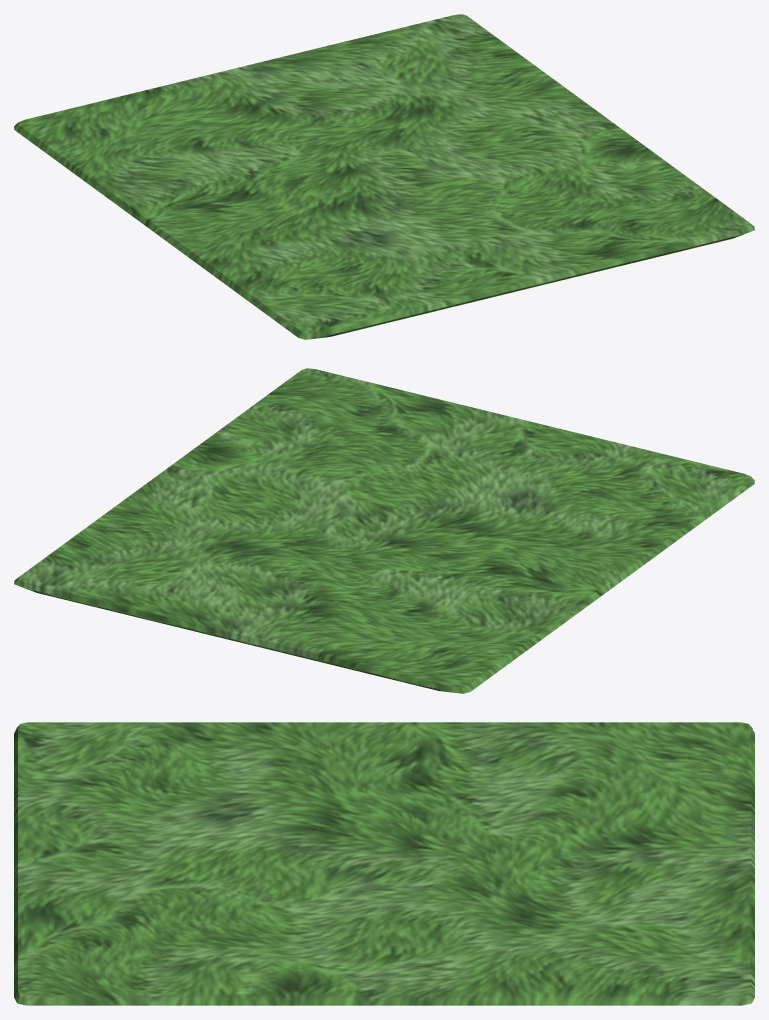
Rendered from Throw_Rug_05.FBX.
The picture shows the model from 3 angles, top to bottom: view 1: azimuth 30°, elevation 25°; view 2: azimuth 150°, elevation 25°; view 3: azimuth 270°, elevation 25°; orthographic projection. The views are drawn at different scales.
Visible parts, largest first — view 1: Shag_Carpet; view 2: Shag_Carpet; view 3: Shag_Carpet.
Part boxes in pixels (left/top/right/bottom): Shag_Carpet: left=14, top=14, right=754, bottom=339; Shag_Carpet: left=14, top=368, right=754, bottom=693; Shag_Carpet: left=14, top=722, right=754, bottom=1005.
Bounding box in the file's own units: 244 × 3.17 × 273.
